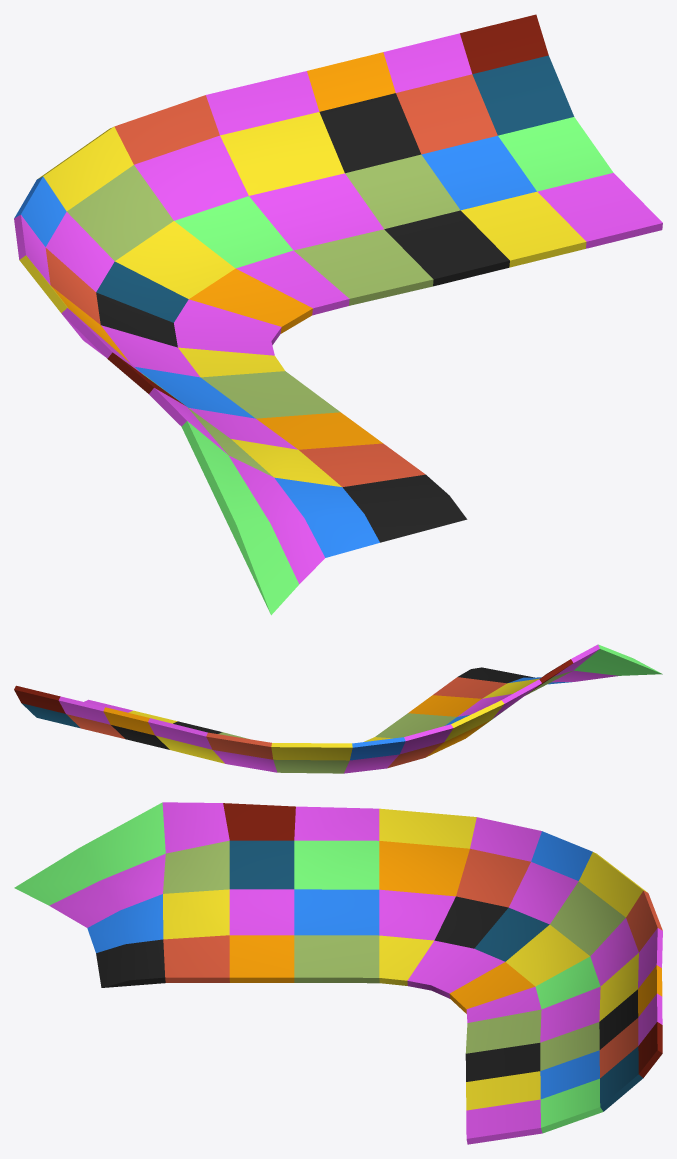
Rendered from ramp.glb.
3 renders of one model, top to bottom at view 1: azimuth 30°, elevation 25°; view 2: azimuth 150°, elevation 25°; view 3: azimuth 270°, elevation 25°, orthographic. The views are drawn at different scales.
Parts seen in each view (by area): view 1: Cylinder; view 2: Cylinder; view 3: Cylinder.
Boxes of the visible parts, x1=… form: Cylinder: x1=14, y1=14, x2=662, y2=615; Cylinder: x1=14, y1=644, x2=662, y2=773; Cylinder: x1=14, y1=802, x2=662, y2=1144.
Size of the model in its own units: 30.67 by 5.55 by 32.93.
1 material, 1 textured.
